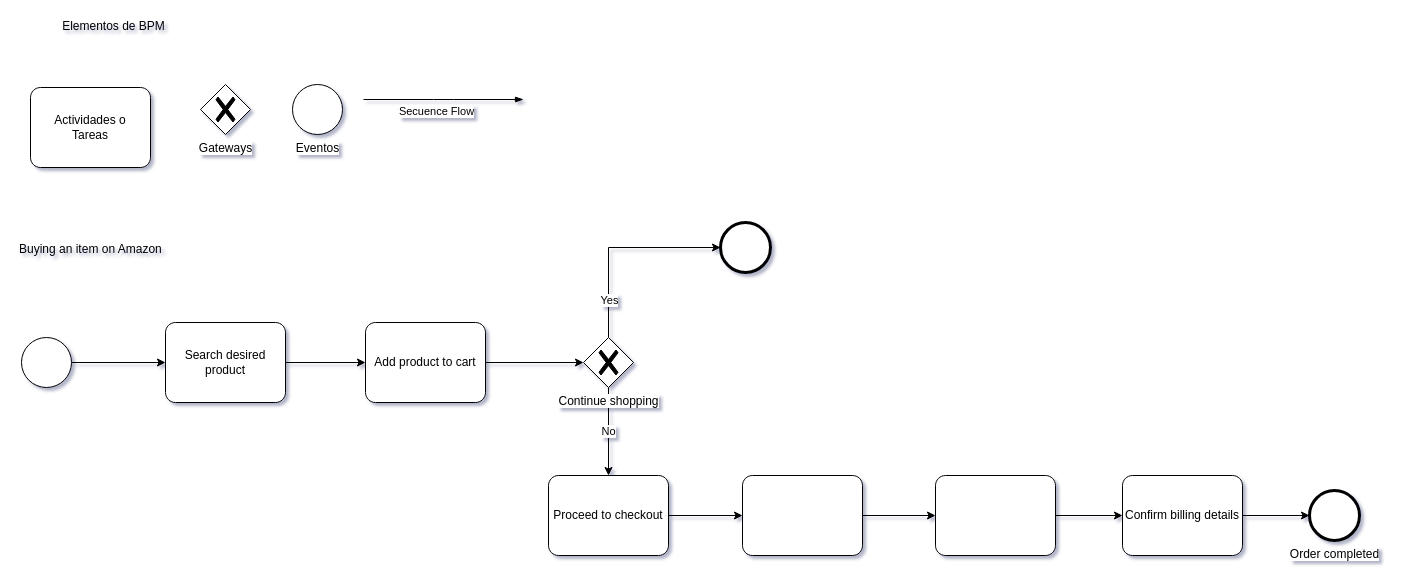
The diagram is 1402 pixels wide and 584 high, and some of its shapes have lost their labels. The shapes that lost their labels are listed below. From the top down, each one's centre as x and y in pixels, then its label:
(745,247): Continue browsing in Amazon
(46,362): Login
(802,515): Choose shipping option
(995,515): Choose payment option
